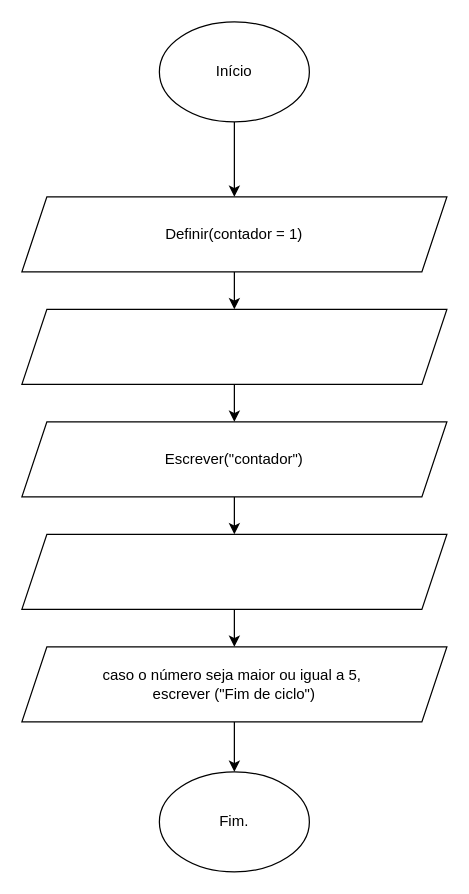
Image size: 469x894. Some labels were removed from this diagram. The centre of each missing label's shape, as x and y in pixels:
Contador = Contador + 1: the point at 234,571
while(contador <= 5): the point at 234,346
